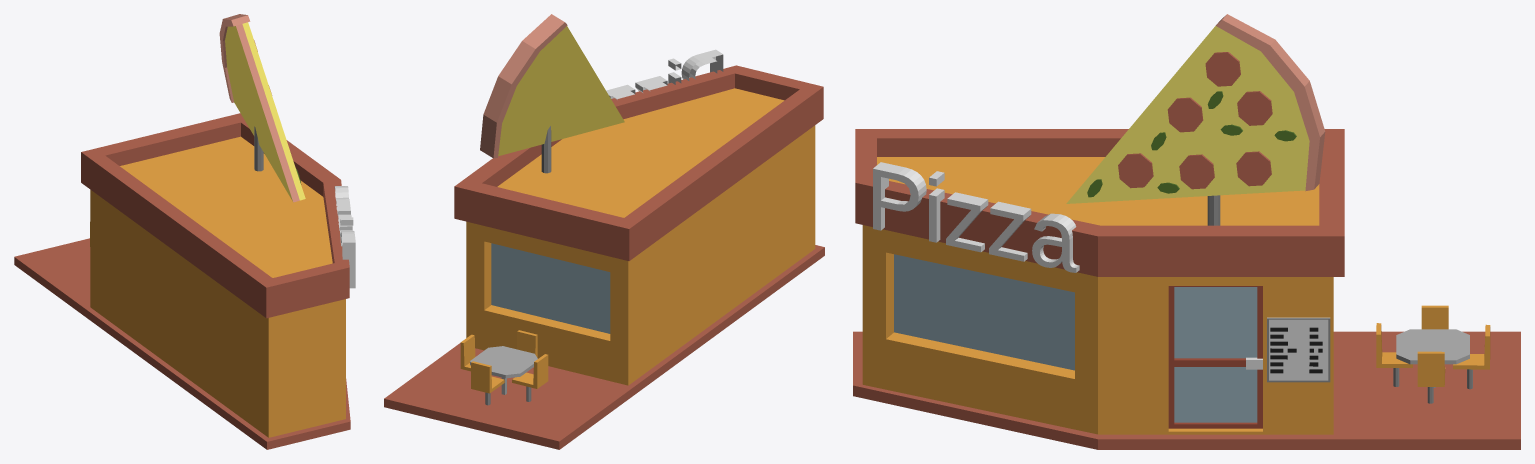
File: pizza-m.glb
3 views of the same model, side by side, from view 1: azimuth 30°, elevation 25°; view 2: azimuth 150°, elevation 25°; view 3: azimuth 270°, elevation 25° (orthographic). The views are drawn at different scales.
Visible parts, largest first — view 1: pizza-m; view 2: pizza-m; view 3: pizza-m.
Part boxes in pixels (x1=…): pizza-m: x1=14, y1=14, x2=355, y2=449; pizza-m: x1=384, y1=14, x2=824, y2=449; pizza-m: x1=853, y1=14, x2=1520, y2=449.
Bounding box in the file's own units: 2.87 × 4.98 × 7.53.
1 material, 1 textured.
